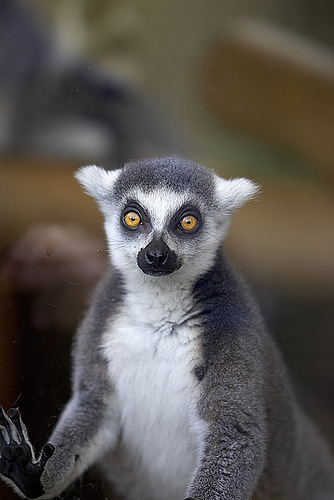cat: (1, 157, 332, 498)
